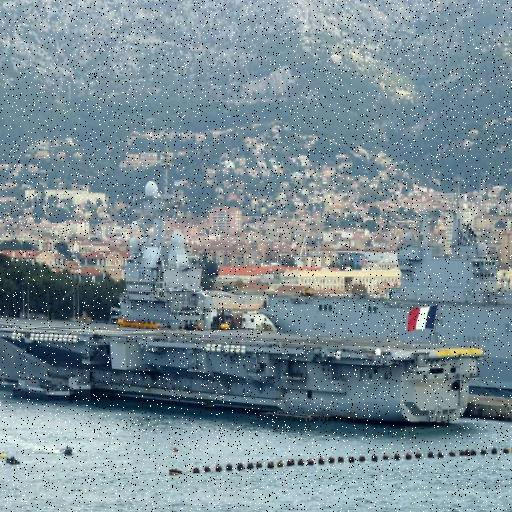Portanaves: (1, 131, 482, 438)
